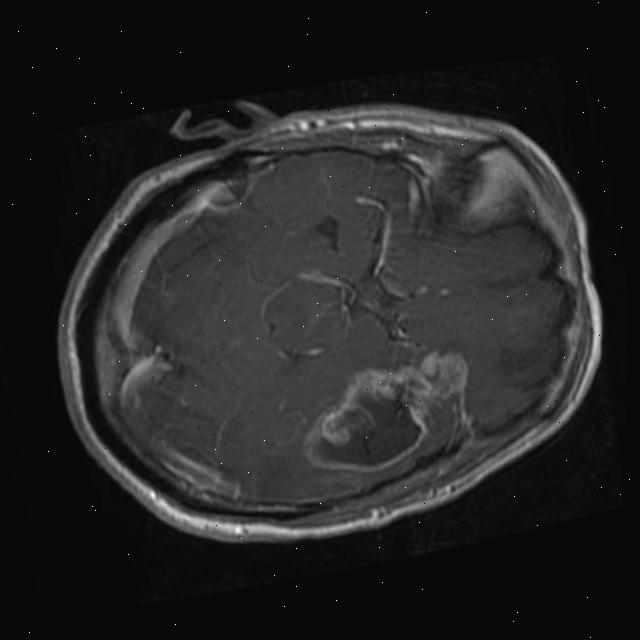Glioma: (286, 341, 487, 488)
